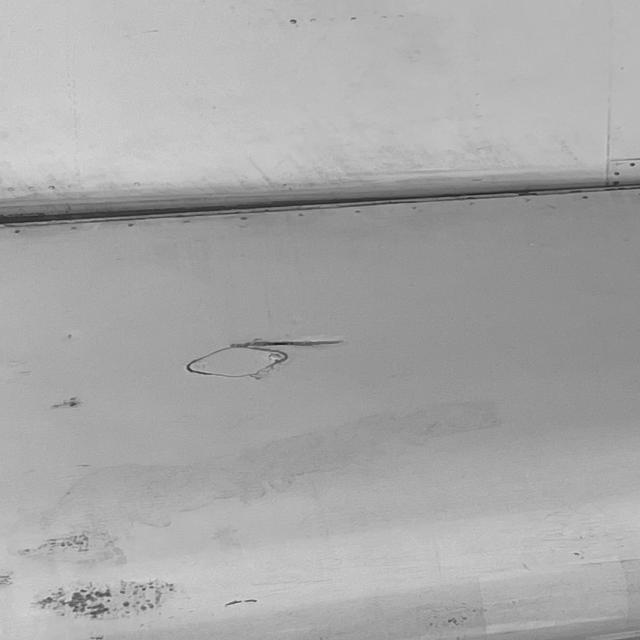crack: (233, 335, 345, 355)
